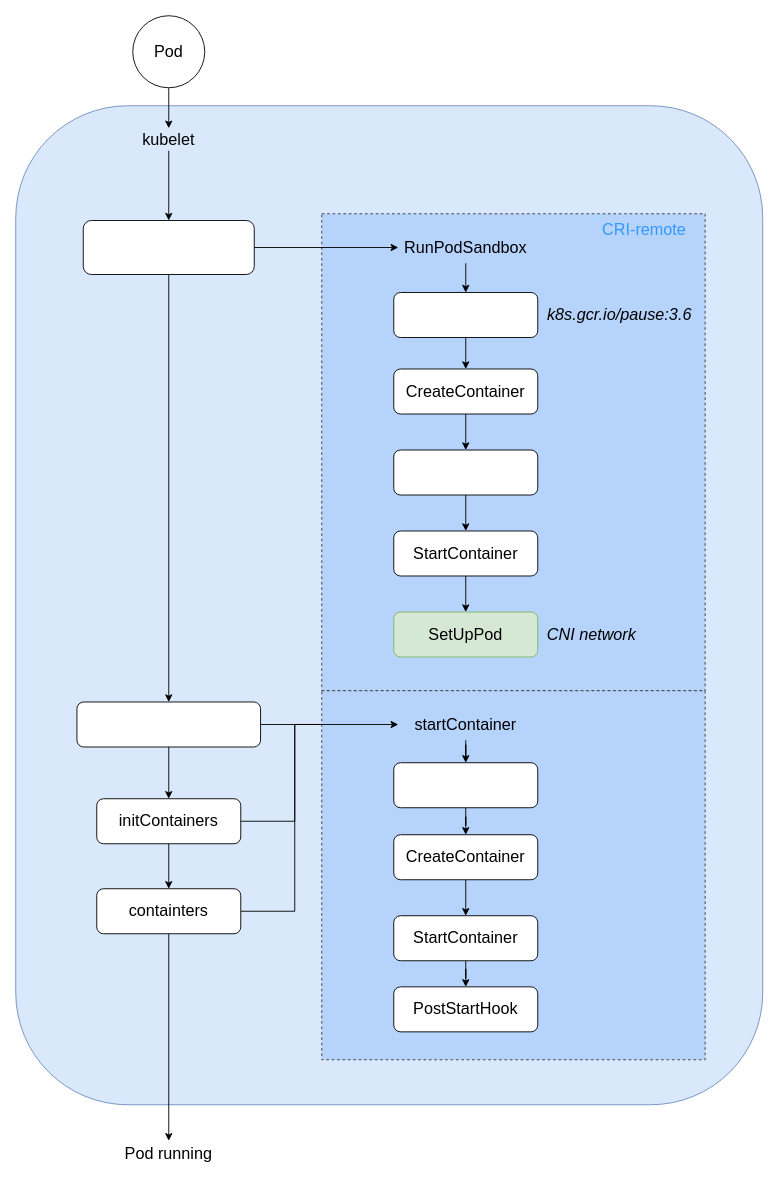
Image size: 779x1184. Some labels were removed from this diagram. Each missing label, with the box of its shape:
CreateCheckpoint: (393, 449, 538, 495)
createPodSandbox: (82, 220, 254, 274)
ephemeralContainers: (76, 701, 261, 747)
infra-container: (393, 292, 538, 338)
PullImage: (393, 762, 538, 808)
